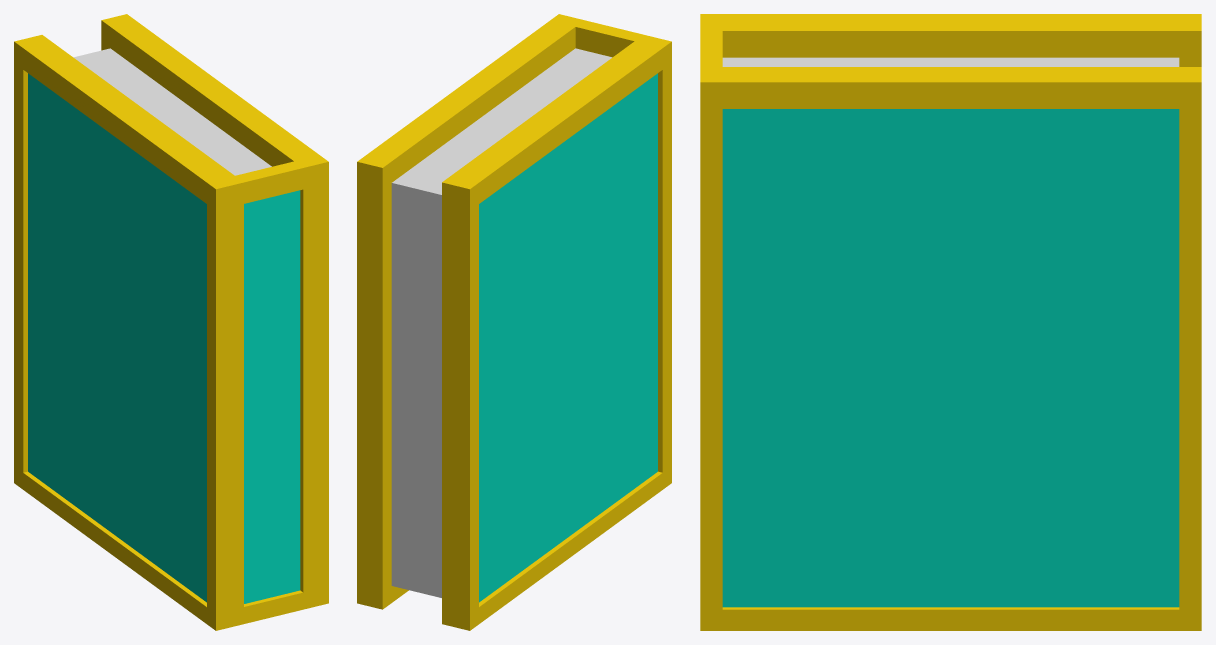
Rendered from BookManaSpellPickUp.fbx.
3 renders of one model, left to right at view 1: azimuth 30°, elevation 25°; view 2: azimuth 150°, elevation 25°; view 3: azimuth 270°, elevation 25°, orthographic. The views are drawn at different scales.
Parts seen in each view (by area): view 1: Cube; view 2: Cube; view 3: Cube.
Boxes of the visible parts, left/top/right/bottom form: Cube: left=14, top=14, right=328, bottom=630; Cube: left=357, top=14, right=671, bottom=630; Cube: left=700, top=14, right=1201, bottom=630.
Bounding box in the file's own units: 143 × 535 × 443.
